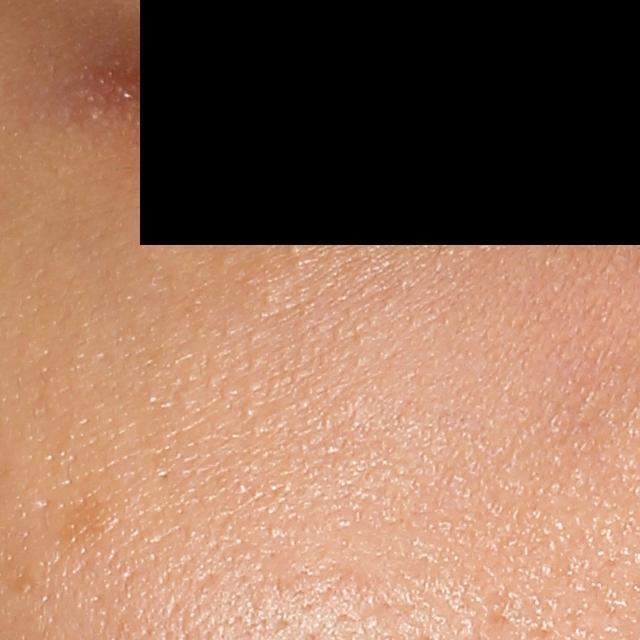melasma: (49, 492, 115, 562)
